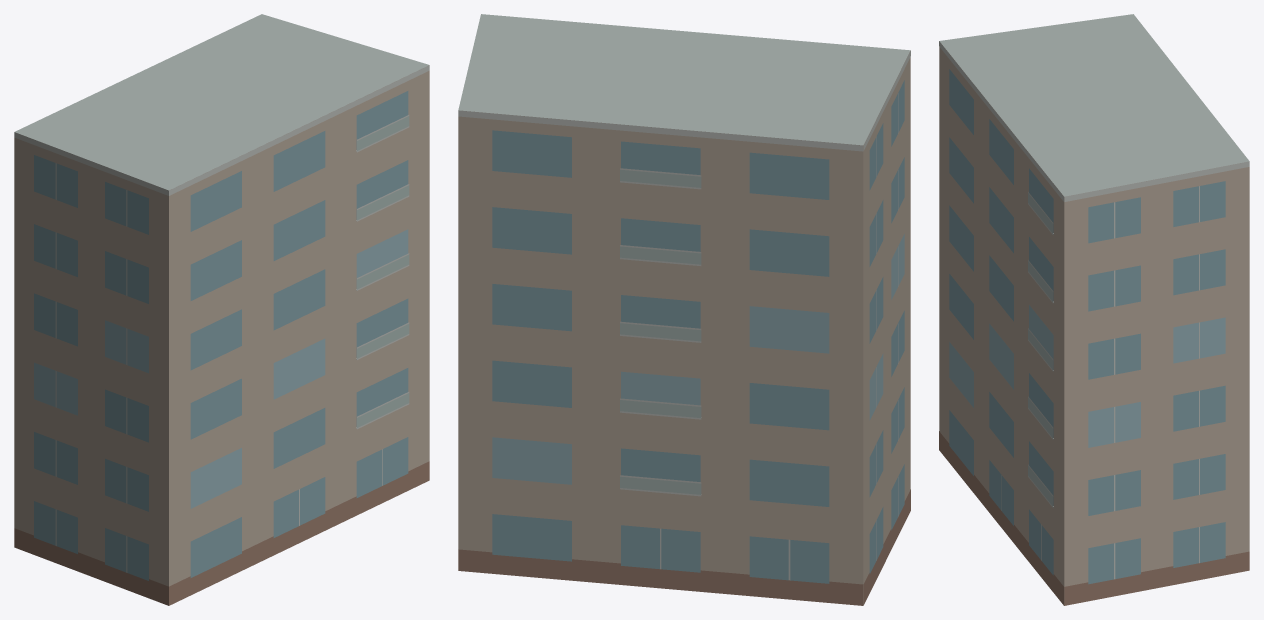
File: survey-upis-32578287.glb
3 renders of one model, left to right at view 1: azimuth 30°, elevation 25°; view 2: azimuth 150°, elevation 25°; view 3: azimuth 270°, elevation 25°, orthographic. The views are drawn at different scales.
Parts seen in each view (by area): view 1: survey-upis-32578287.tmp; view 2: survey-upis-32578287.tmp; view 3: survey-upis-32578287.tmp.
Part boxes in pixels (box(x1,y1,x2,y2)): survey-upis-32578287.tmp: box(14, 14, 429, 605); survey-upis-32578287.tmp: box(458, 14, 910, 605); survey-upis-32578287.tmp: box(939, 14, 1249, 605).
Size of the model in its own units: 17.54 by 18.3 by 12.6.
